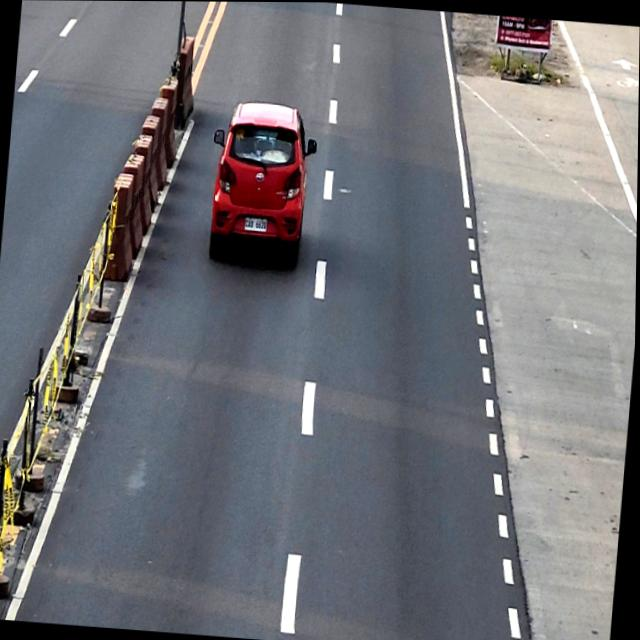Car: (203, 97, 320, 269)
License-Plate: (244, 216, 268, 232)
